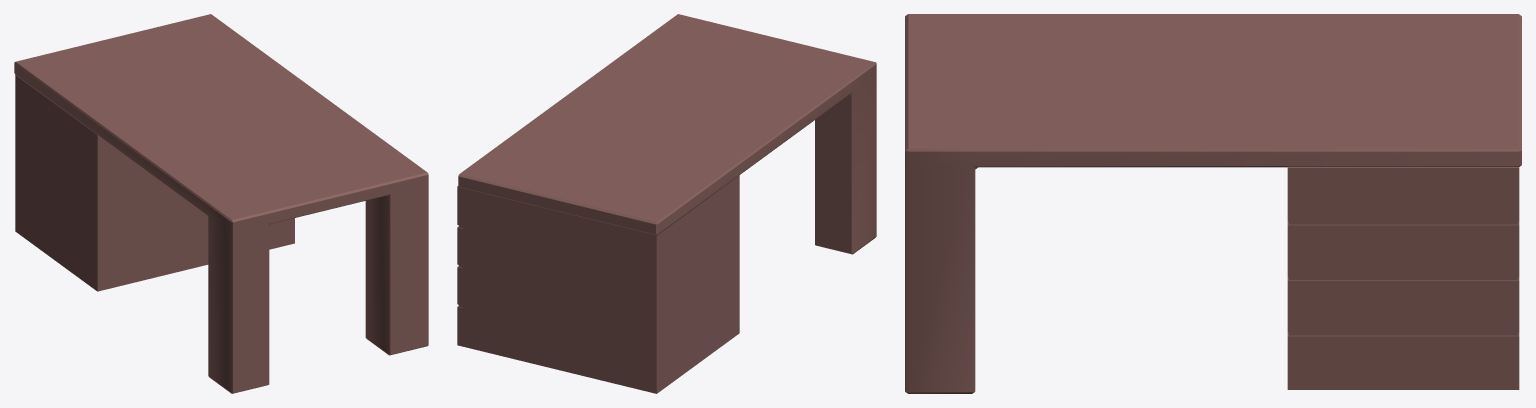
Rendered from Table.fbx.
The picture shows the model from 3 angles, left to right: view 1: azimuth 30°, elevation 25°; view 2: azimuth 150°, elevation 25°; view 3: azimuth 270°, elevation 25°; orthographic projection. The views are drawn at different scales.
Parts seen in each view (by area): view 1: Table; view 2: Table; view 3: Table.
Boxes of the visible parts, <box> form: Table: <box>14,14,428,393</box>; Table: <box>457,14,876,393</box>; Table: <box>905,14,1521,393</box>.
Size of the model in its own units: 131 by 110 by 250.
